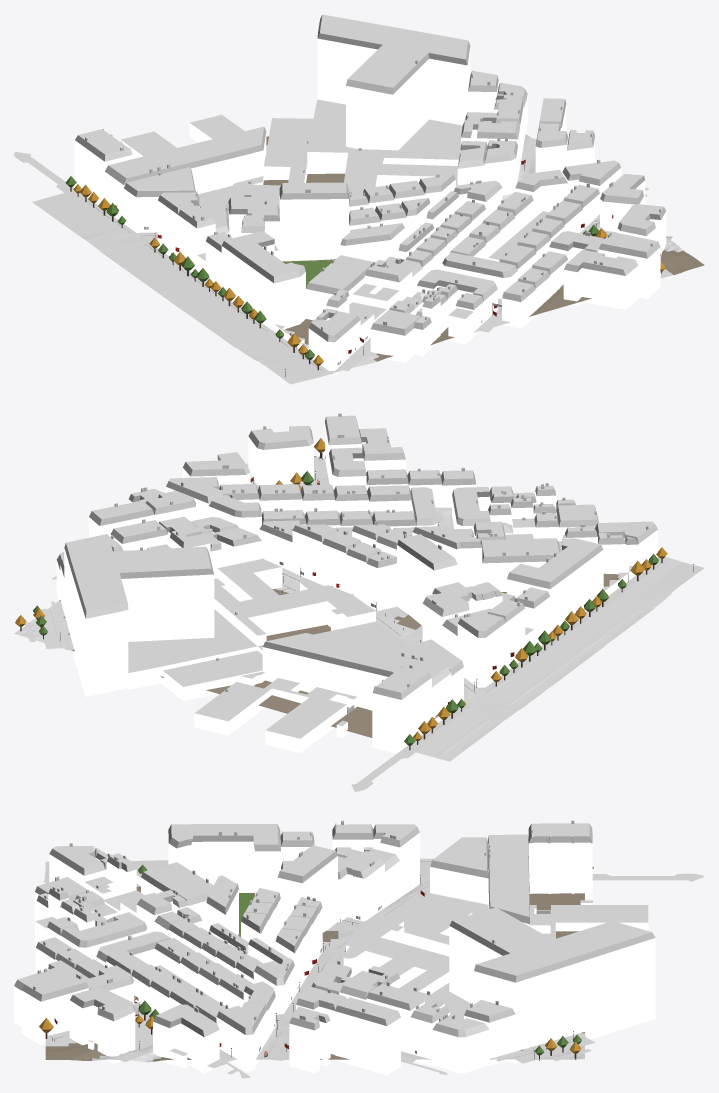
Rendered from zone_D6.glb.
3 renders of one model, top to bottom at view 1: azimuth 30°, elevation 25°; view 2: azimuth 150°, elevation 25°; view 3: azimuth 270°, elevation 25°, orthographic. The views are drawn at different scales.
Visible parts, largest first — view 1: zone_D6_batiments, zone_D6_sol_NOCOL, zone_D6_terrain, zone_D6_decor_NOCOL; view 2: zone_D6_batiments, zone_D6_sol_NOCOL, zone_D6_terrain, zone_D6_decor_NOCOL; view 3: zone_D6_batiments, zone_D6_sol_NOCOL, zone_D6_terrain, zone_D6_decor_NOCOL.
Part boxes in pixels (x1=…): zone_D6_batiments: x1=74, y1=14, x2=666, y2=375; zone_D6_sol_NOCOL: x1=14, y1=138, x2=672, y2=383; zone_D6_terrain: x1=45, y1=134, x2=704, y2=384; zone_D6_decor_NOCOL: x1=65, y1=162, x2=665, y2=376; zone_D6_batiments: x1=56, y1=413, x2=657, y2=753; zone_D6_sol_NOCOL: x1=24, y1=460, x2=702, y2=791; zone_D6_terrain: x1=14, y1=456, x2=704, y2=756; zone_D6_decor_NOCOL: x1=15, y1=438, x2=693, y2=750; zone_D6_batiments: x1=14, y1=820, x2=655, y2=1075; zone_D6_sol_NOCOL: x1=43, y1=858, x2=704, y2=1078; zone_D6_terrain: x1=45, y1=861, x2=584, y2=1062; zone_D6_decor_NOCOL: x1=39, y1=864, x2=593, y2=1060.
Bounding box in the file's own units: 221 × 43.4 × 269.
